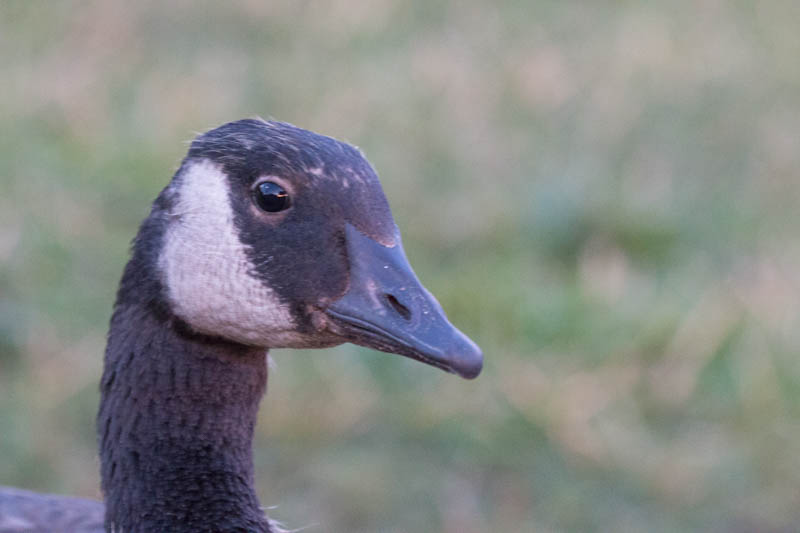goose-head: (129, 117, 484, 379)
